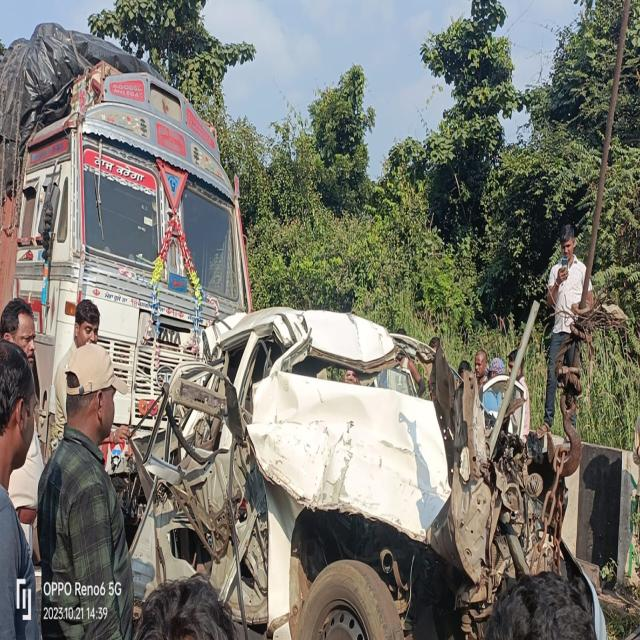accident: (130, 307, 605, 640)
truck: (0, 22, 251, 457)
